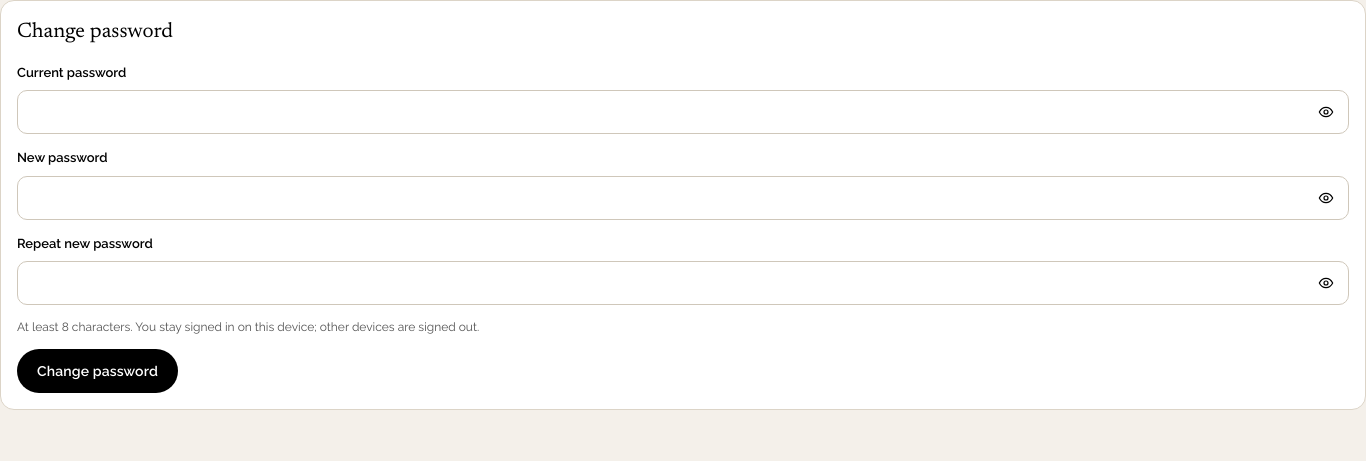
ChangePasswordCard › mismatched passwords are caught before anything goes to Clerk
The width and height of the screenshot is (1366, 461).
Type "old-pass-1" into the password field labelled "Current password" at (664, 112), box left=18, top=91, right=1310, bottom=133
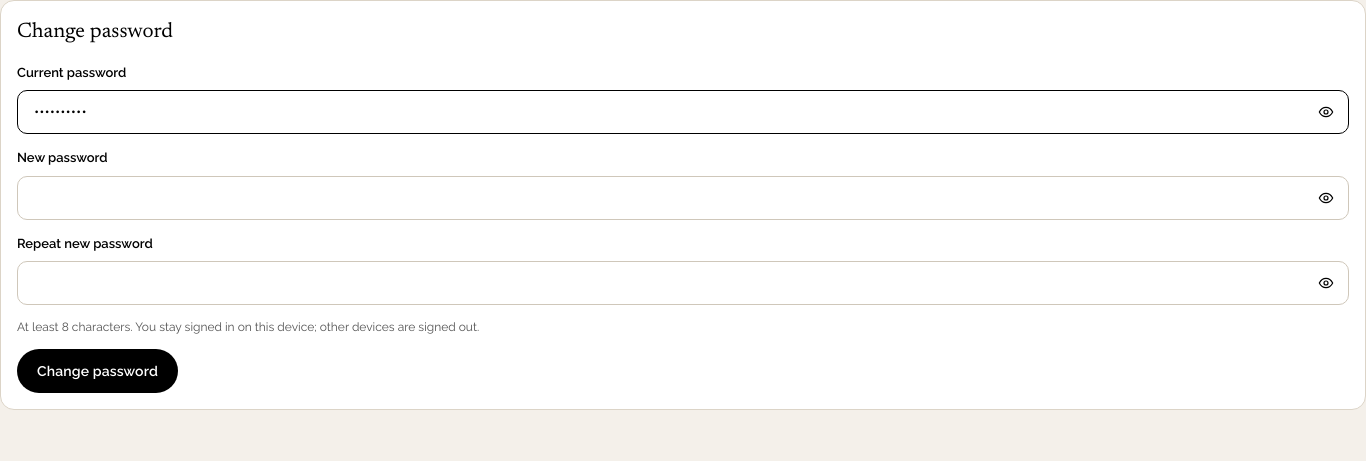
Type "new-pass-1" into the password field labelled "New password" at (664, 198), box left=18, top=176, right=1310, bottom=218
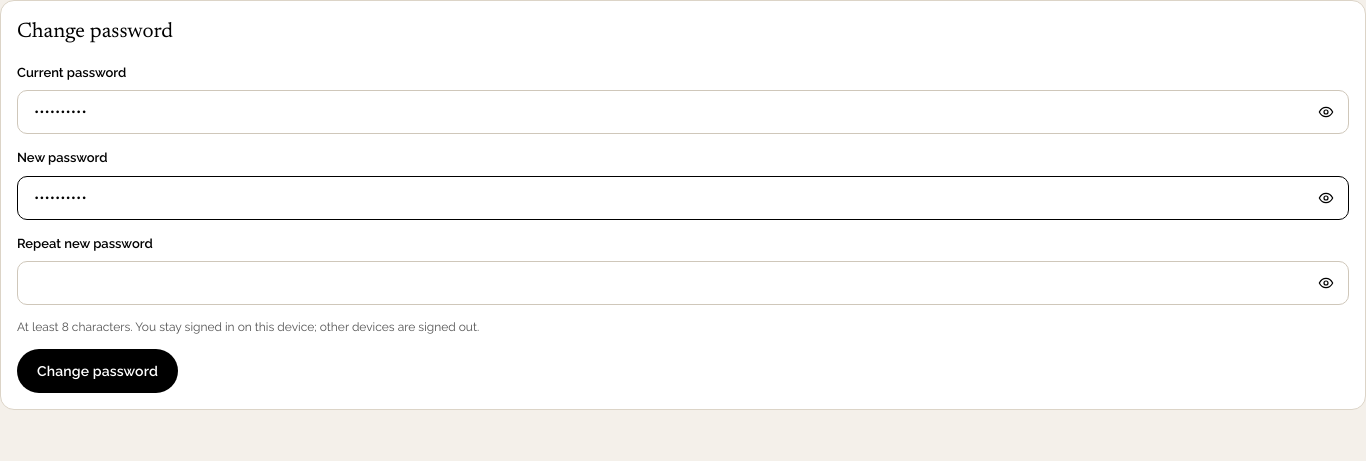
Type "new-pass-2" into the password field labelled "Repeat new password" at (664, 283), box left=18, top=262, right=1310, bottom=304
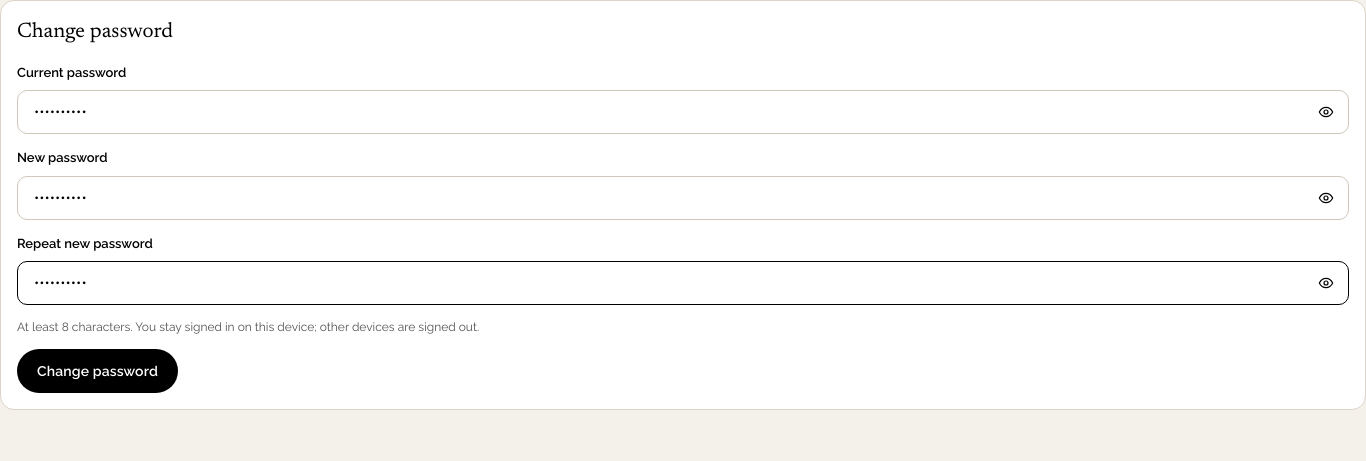
Click the button "Change password" at (98, 371), box left=17, top=349, right=178, bottom=393
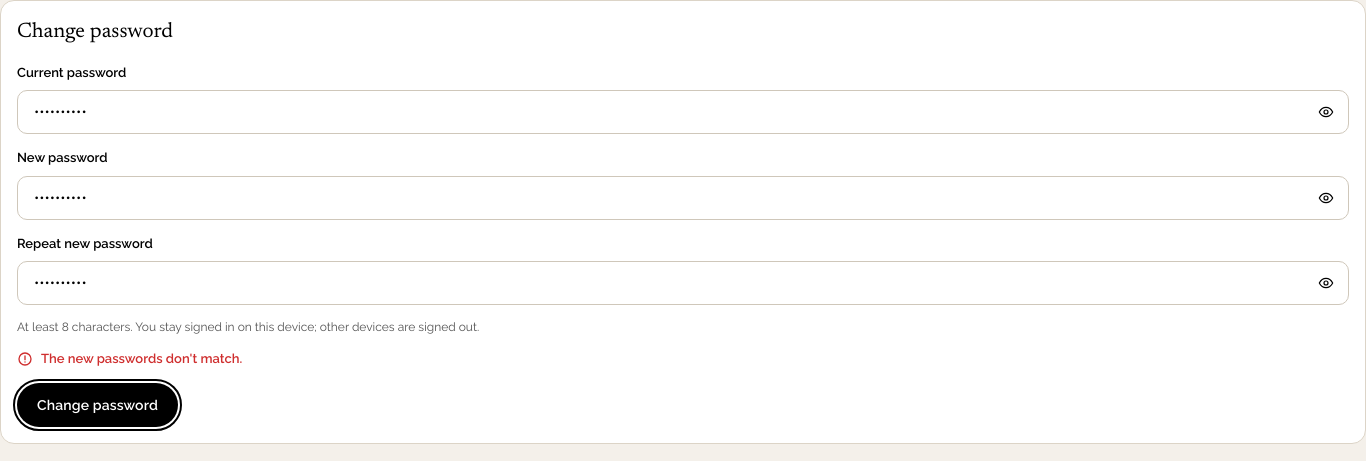
Expected: the message reads "The new passwords don't match.", left=41, top=351, right=242, bottom=366
